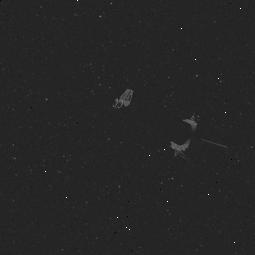xmm_newton: (110, 83, 206, 153)
